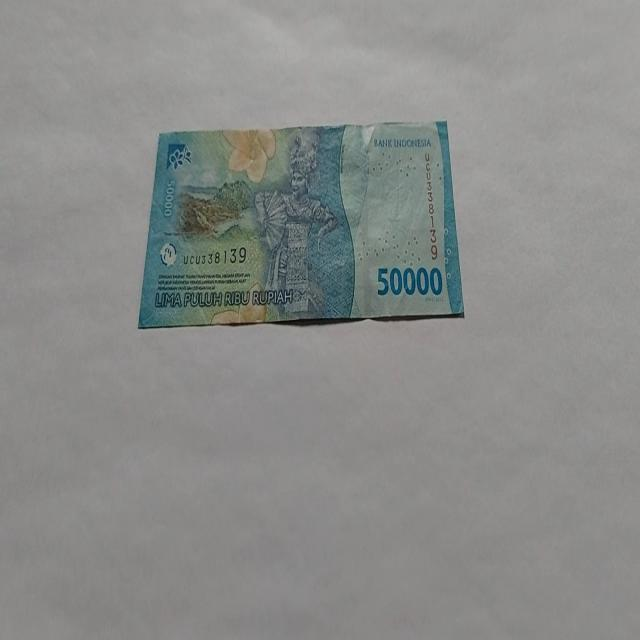lima puluh ribu rupiah: (137, 119, 466, 329)
